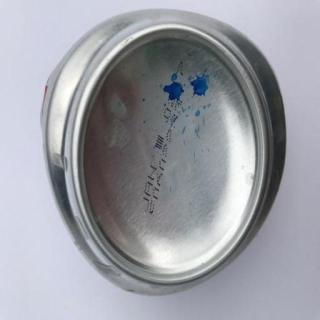Anorganik: (34, 7, 285, 292)
